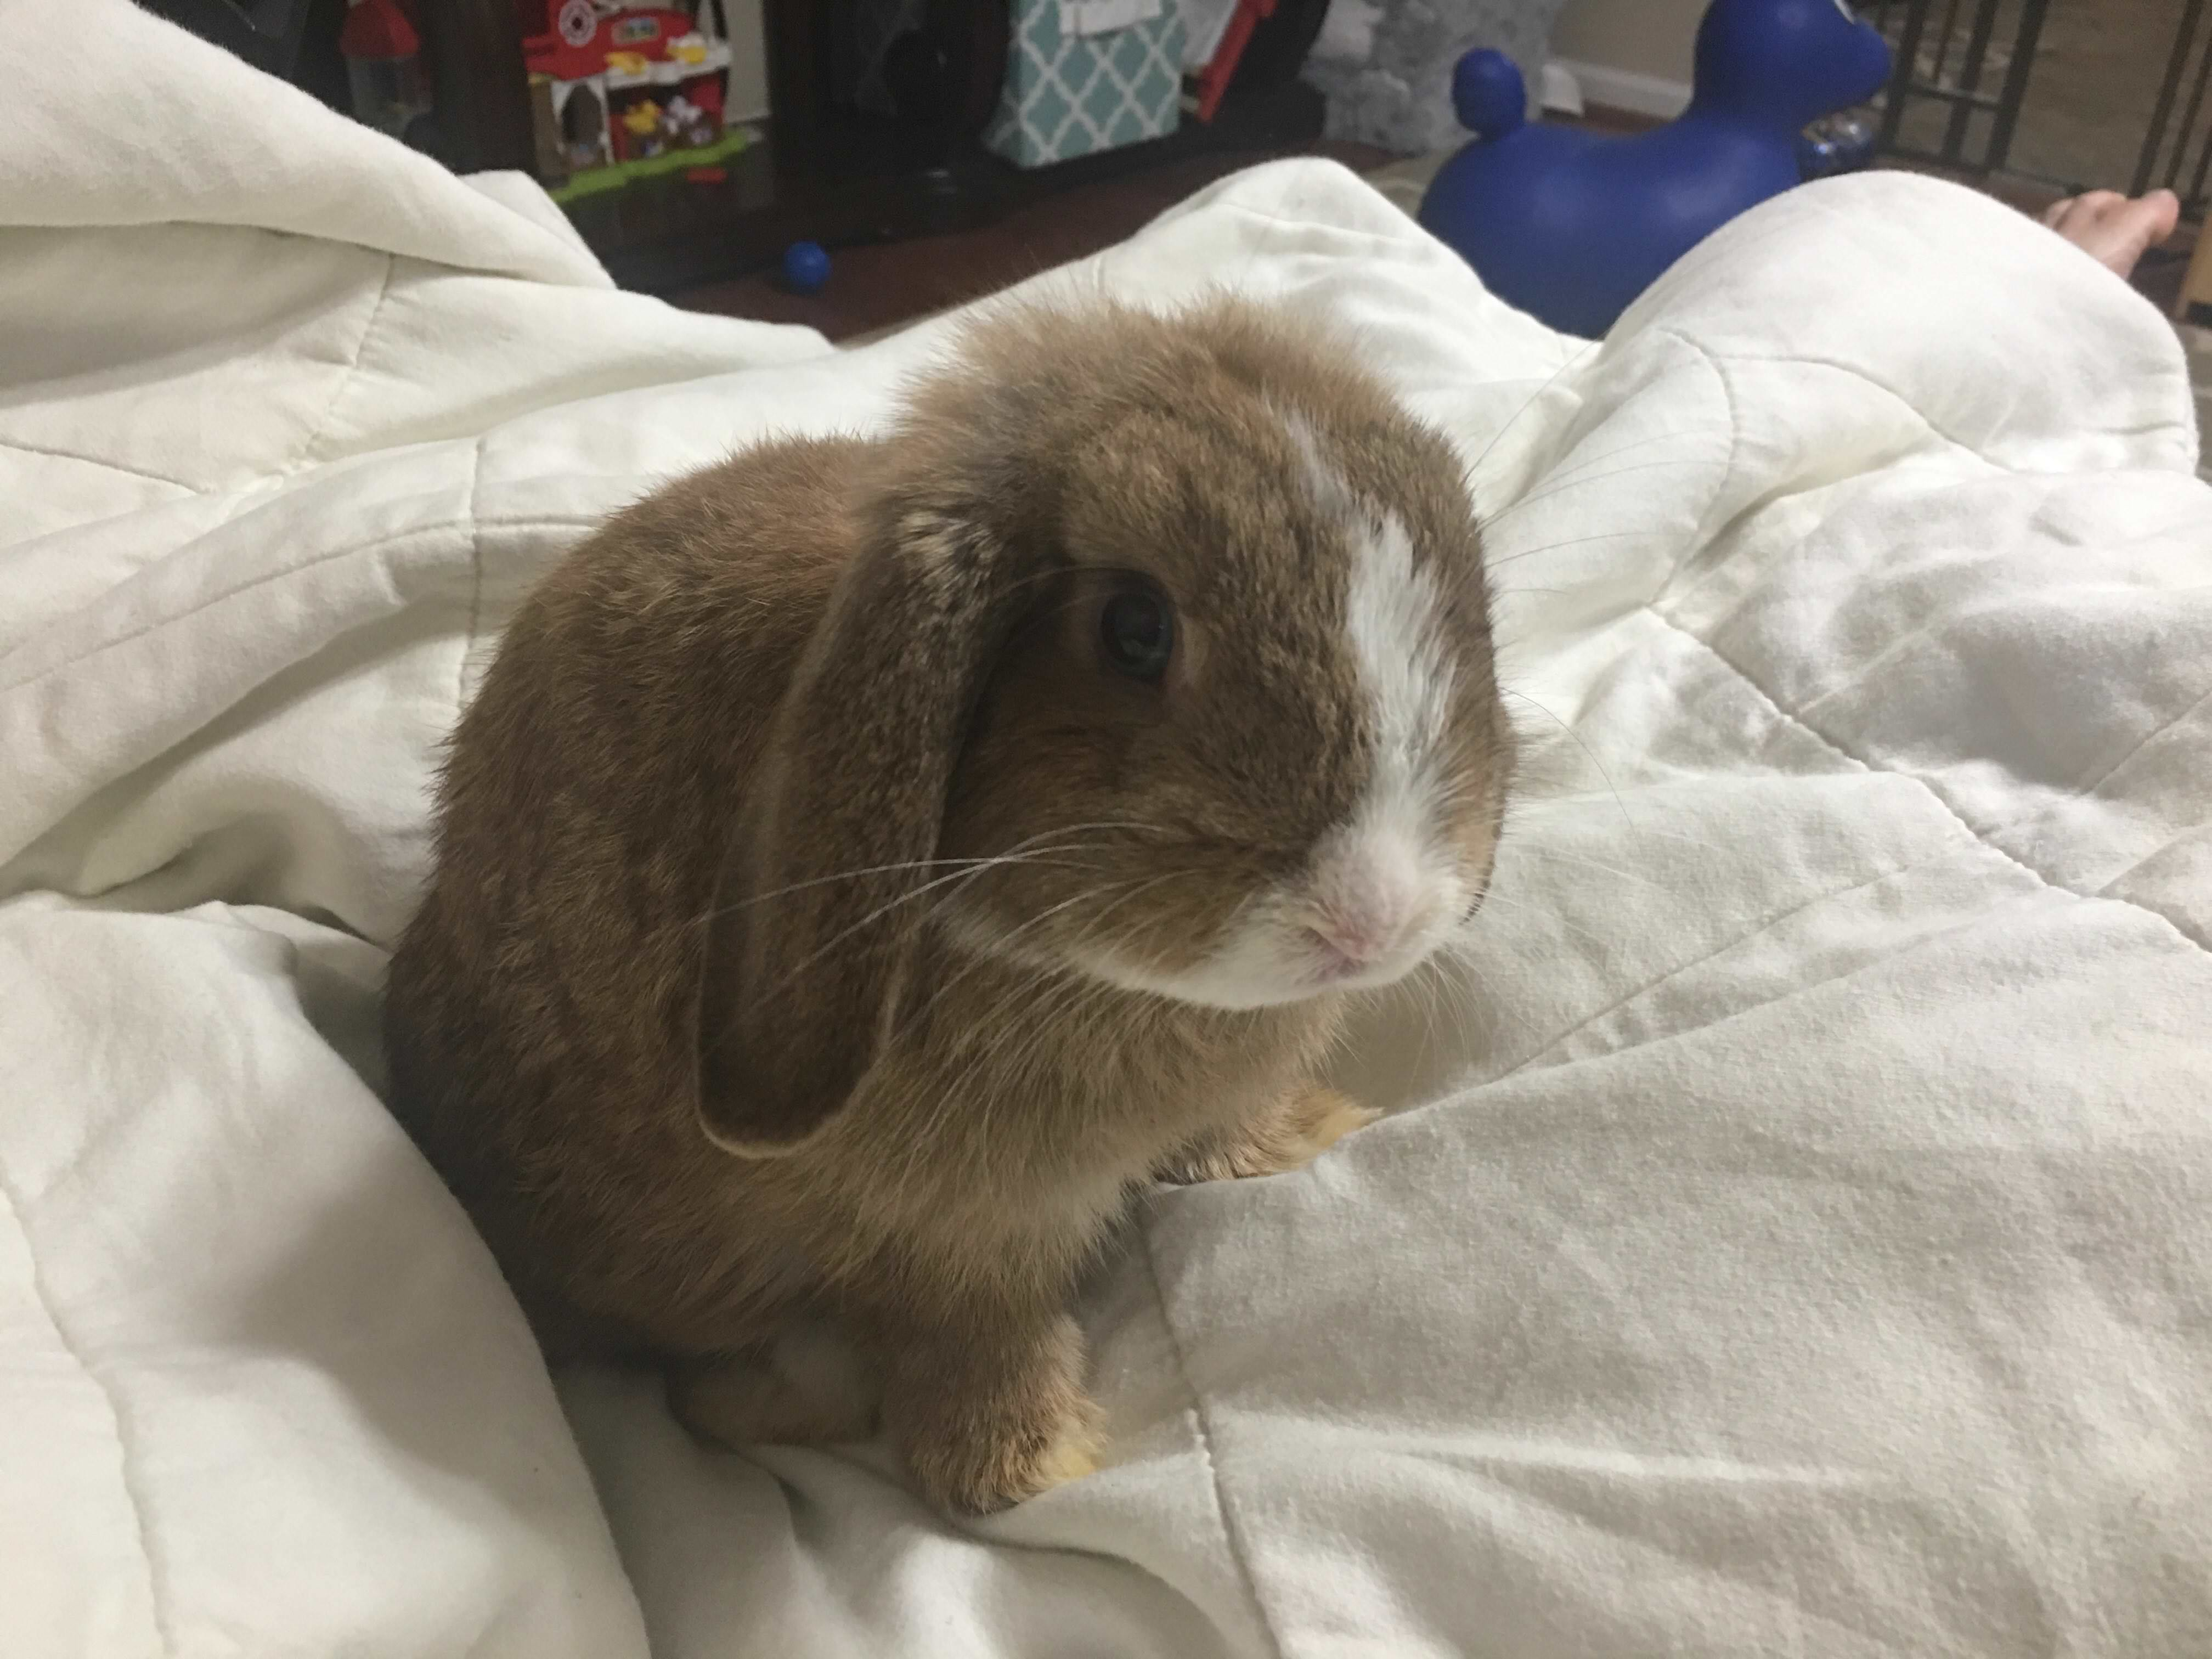bunny: (277, 298, 1594, 1570)
